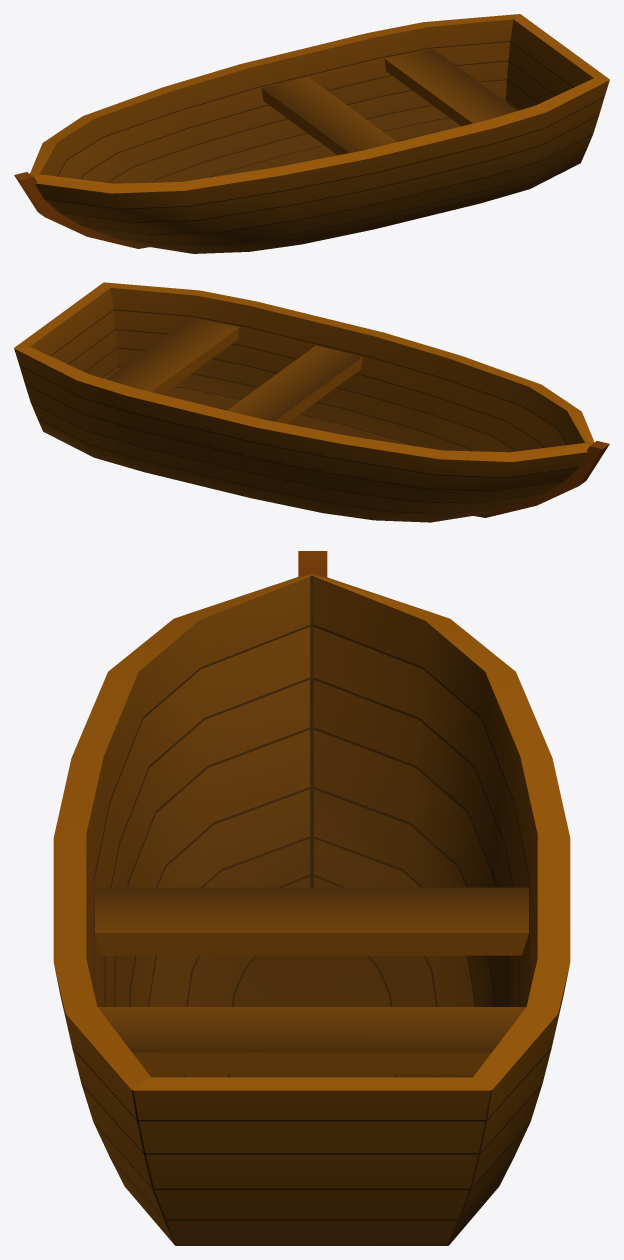
Rendered from Bout.fbx.
3 renders of one model, top to bottom at view 1: azimuth 30°, elevation 25°; view 2: azimuth 150°, elevation 25°; view 3: azimuth 270°, elevation 25°, orthographic. The views are drawn at different scales.
Parts seen in each view (by area): view 1: Bout; view 2: Bout; view 3: Bout.
Boxes of the visible parts, <box> form: Bout: <box>14,14,609,253</box>; Bout: <box>14,282,609,522</box>; Bout: <box>53,551,570,1245</box>.
Bounding box in the file's own units: 488 × 88.69 × 199.
